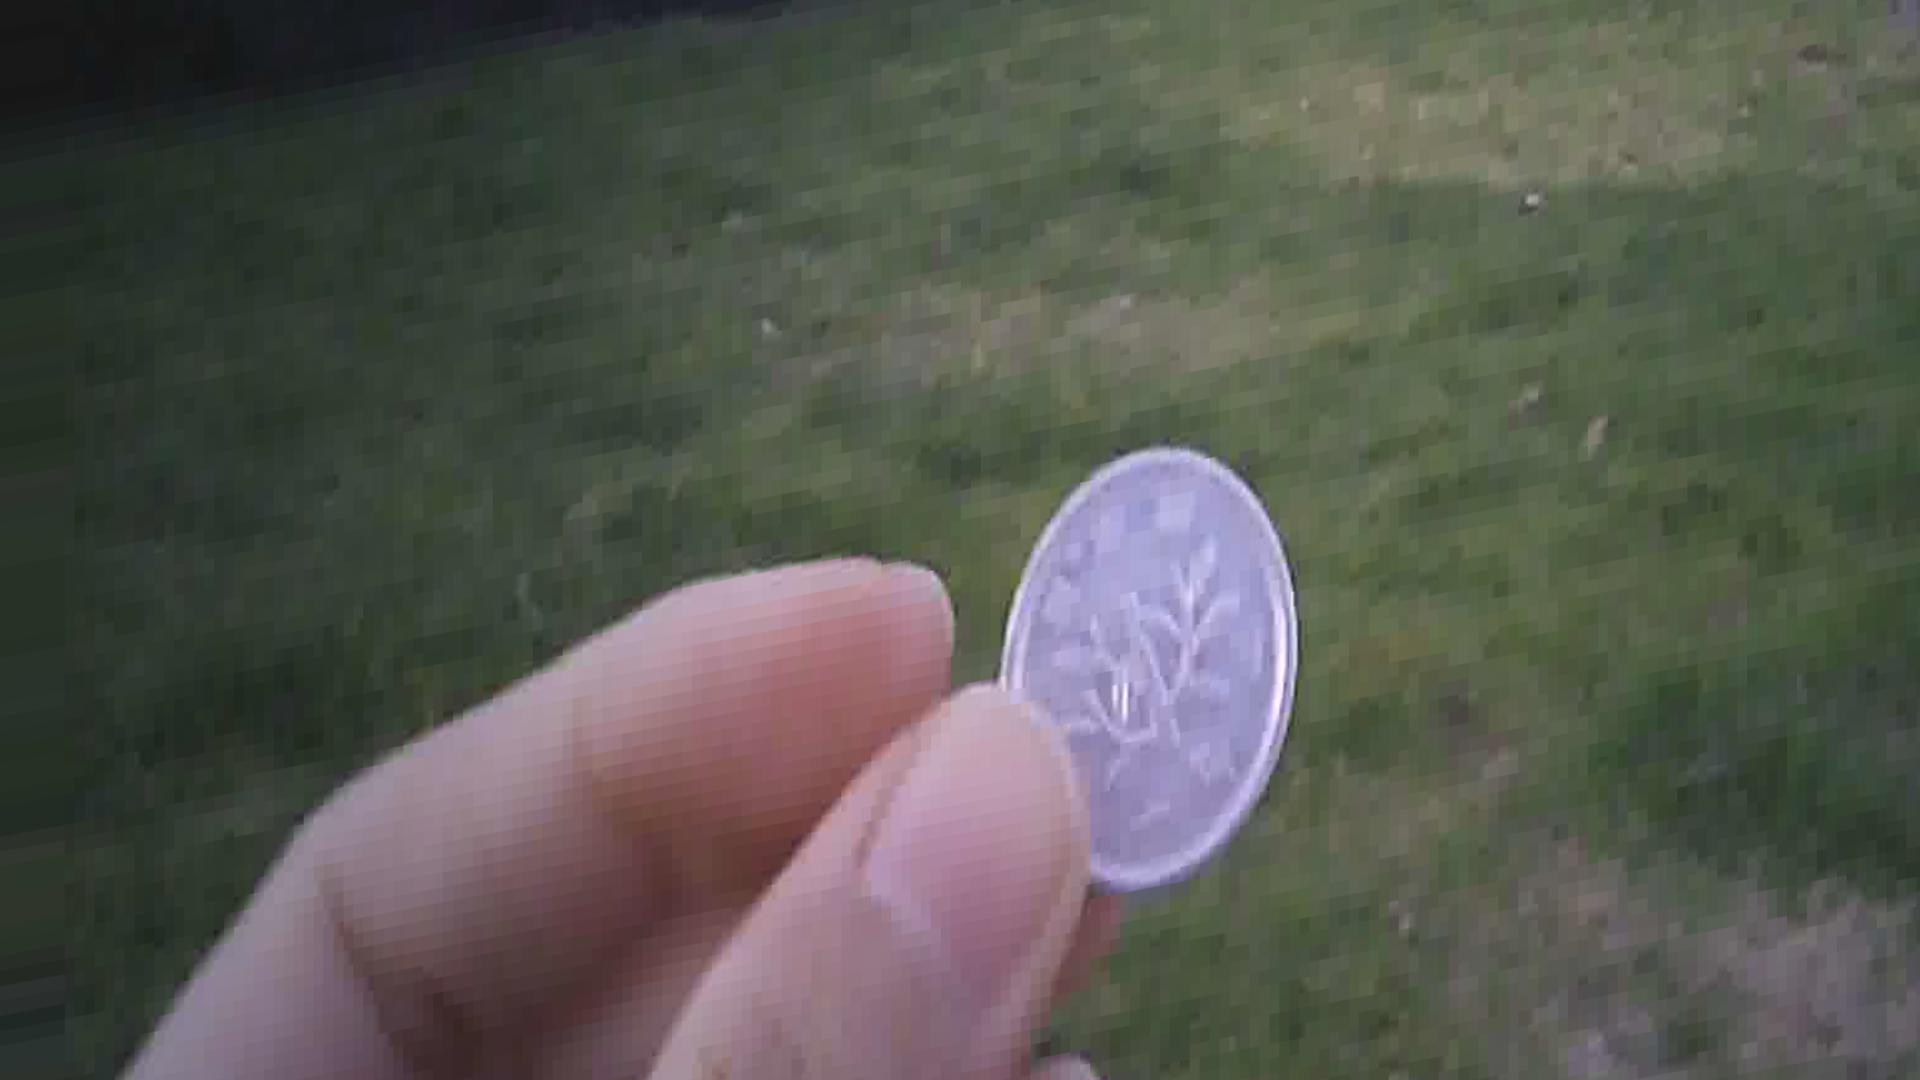1 Yen: (978, 455, 1291, 886)
